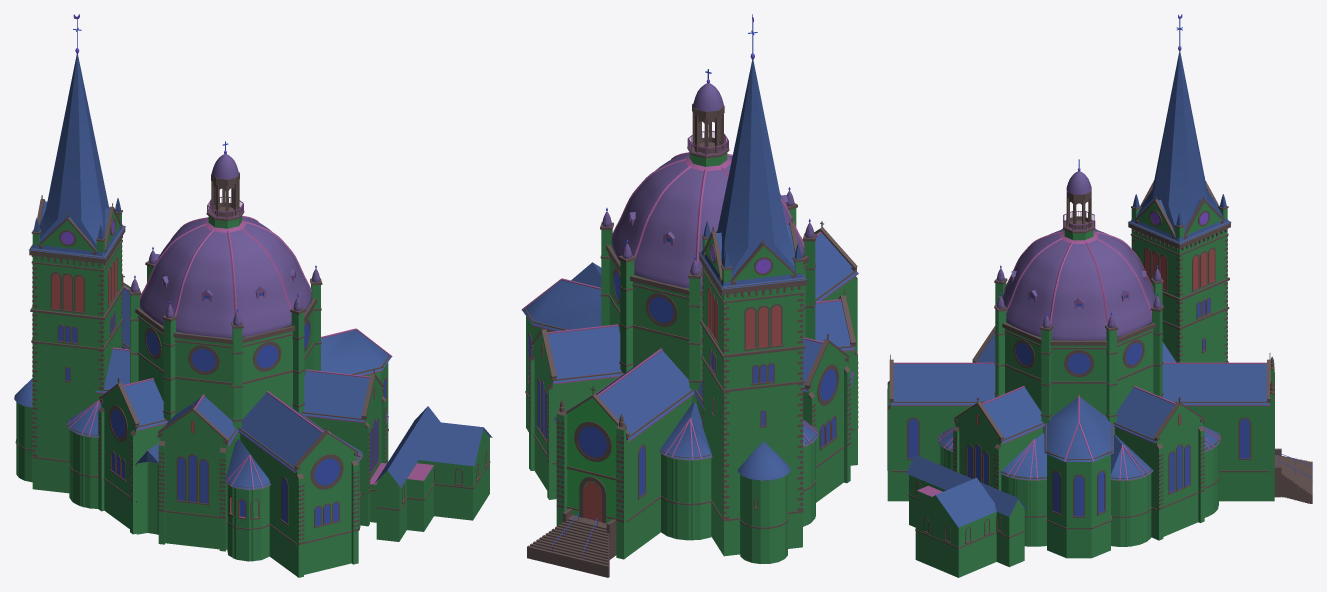
File: stjob.glb
3 views of the same model, side by side, from view 1: azimuth 30°, elevation 25°; view 2: azimuth 150°, elevation 25°; view 3: azimuth 270°, elevation 25° (orthographic). The views are drawn at different scales.
Parts seen in each view (by area): view 1: StJob, StJob_far; view 2: StJob, StJob_far; view 3: StJob, StJob_far.
Boxes of the visible parts, x1,y1,x2,y2 form: StJob: [14, 14, 492, 577]; StJob_far: [32, 220, 489, 575]; StJob: [521, 14, 858, 577]; StJob_far: [526, 218, 855, 563]; StJob: [887, 14, 1312, 568]; StJob_far: [890, 212, 1269, 577].
Size of the model in its own units: 49.43 by 63.59 by 56.87.
